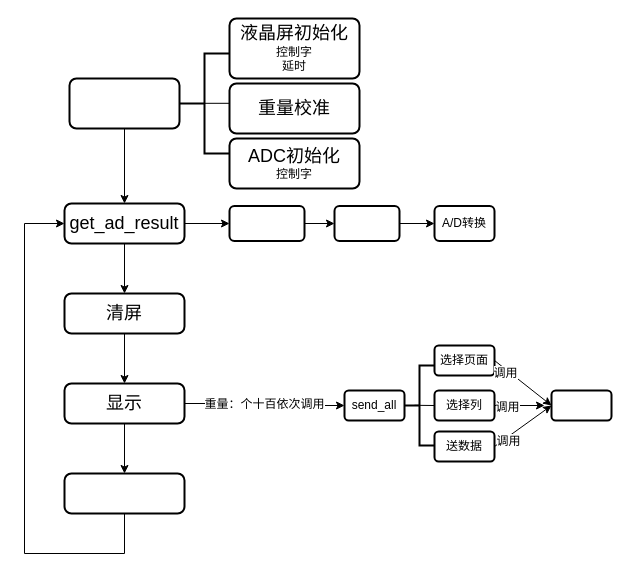
Some shapes in this 630 by 579 pixel diagram are drawn without their labels. The centre of each missing label's shape, as x and y in pixels:
4个nop (双时钟): point (366, 223)
send_byte: point (581, 405)
初始化: point (124, 103)
延时(delay): point (124, 493)
读A/D控制字: point (266, 223)
